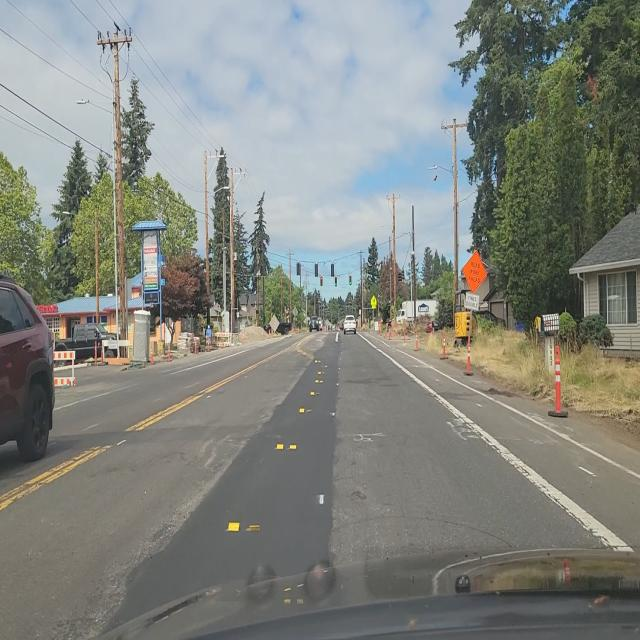car: (0, 275, 56, 467), (54, 318, 120, 368), (423, 315, 445, 334), (342, 314, 357, 334), (308, 316, 321, 332)
crosswalk-sign: (372, 297, 376, 307)
delineator: (547, 343, 568, 419), (462, 332, 474, 375), (99, 340, 106, 369), (91, 339, 98, 365), (441, 330, 447, 359), (414, 327, 420, 351), (167, 344, 172, 362), (402, 327, 407, 343), (241, 329, 246, 344), (206, 339, 211, 352), (388, 323, 392, 339), (150, 353, 154, 365), (379, 320, 382, 334), (396, 326, 398, 336), (262, 330, 264, 339)
